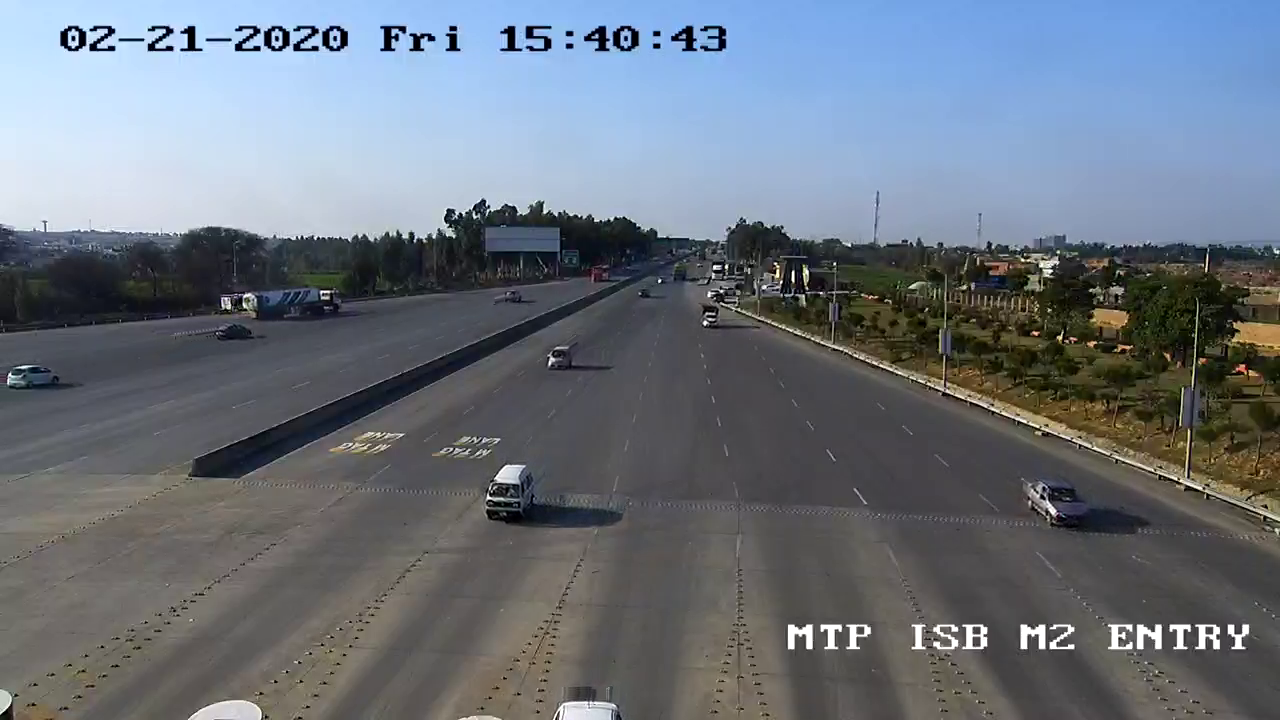f1: (468, 457, 544, 528), (1022, 468, 1099, 537)
